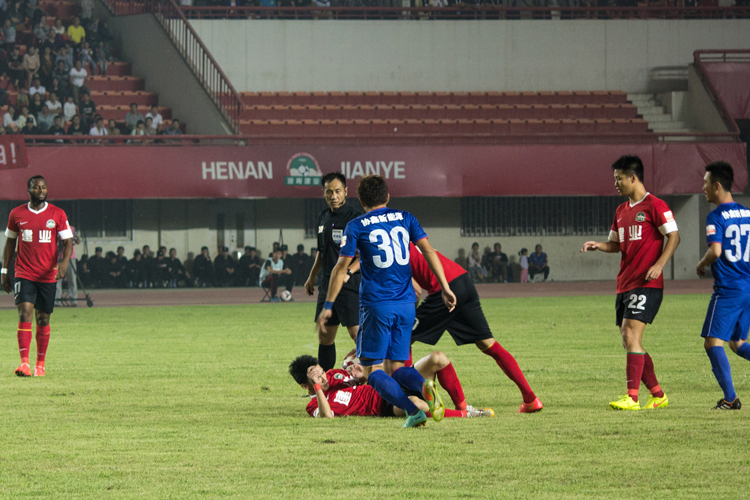10+: (1, 4, 750, 421)
down: (278, 333, 498, 431)
